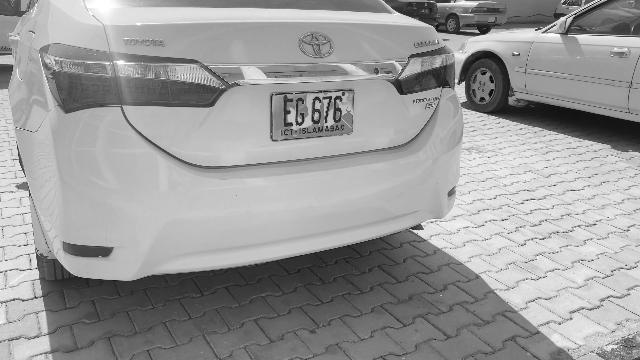Number: (280, 94, 350, 130)
